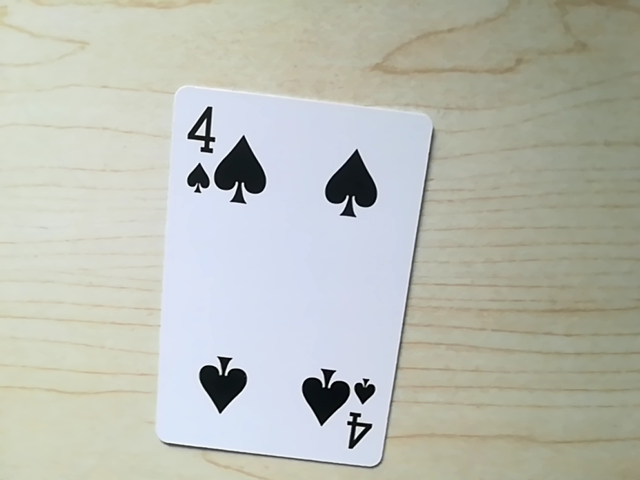ht 4: (174, 94, 232, 204), (336, 374, 378, 459)
